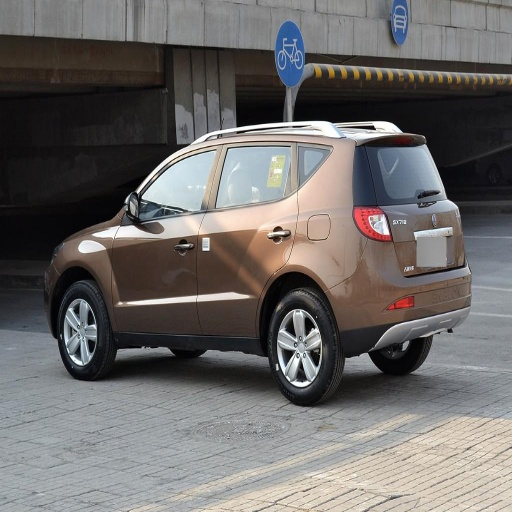back_bumper: (331, 239, 472, 352)
back_glass: (356, 140, 432, 201)
back_left_door: (198, 140, 299, 331)
trunk: (385, 203, 462, 279)
